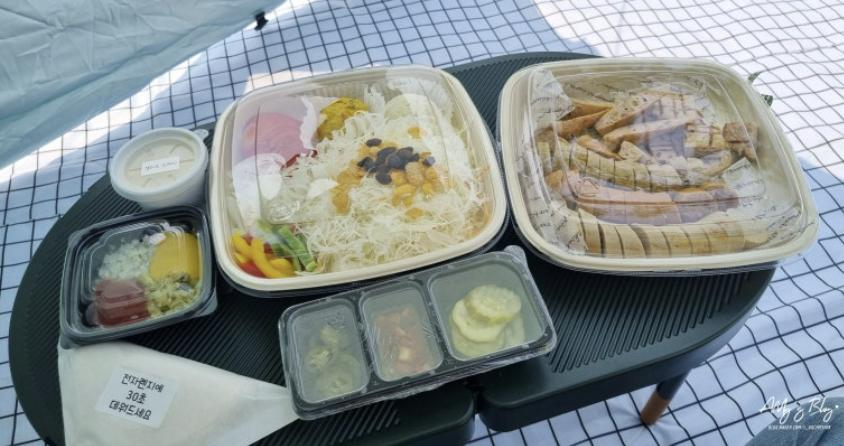Lunch Box: (207, 66, 506, 296), (498, 58, 817, 273), (279, 246, 556, 419), (60, 206, 216, 347)
cup: (109, 128, 209, 209)
